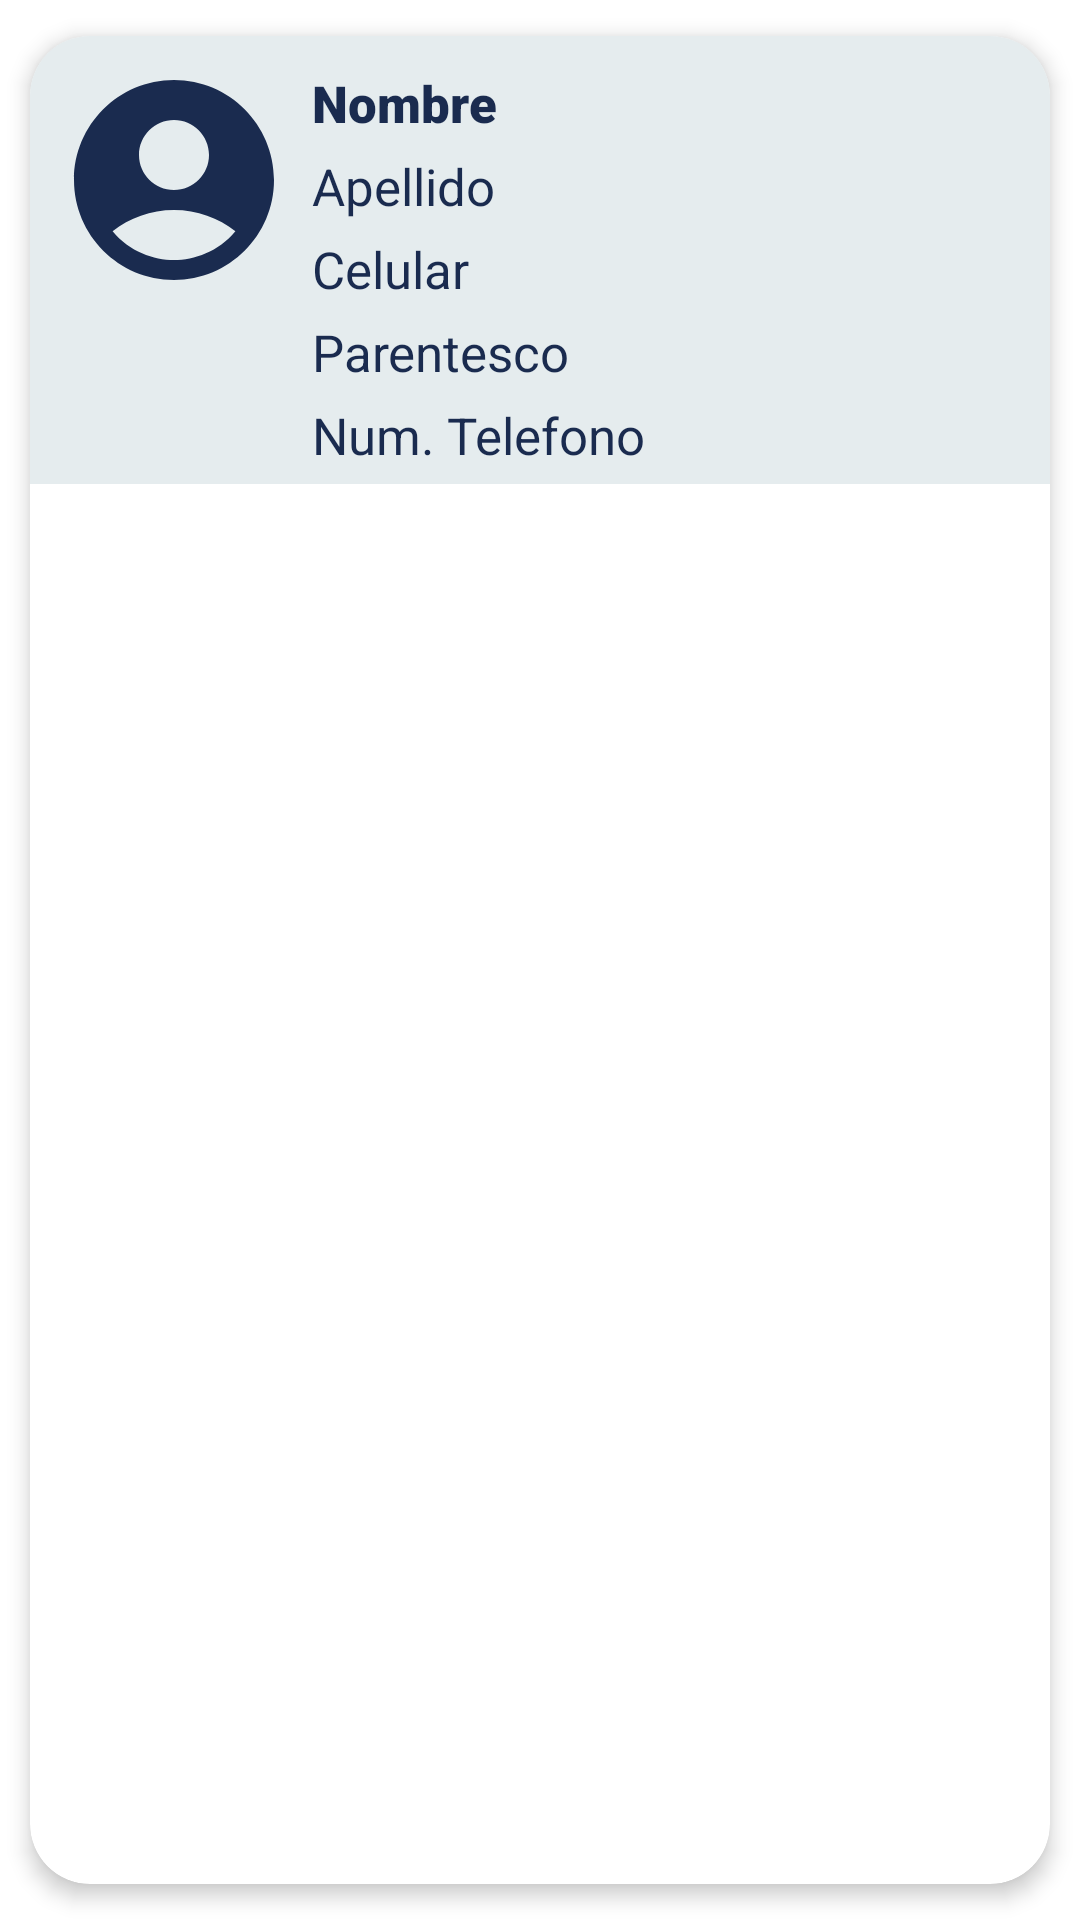

Icons on this 1080x1920 Android screen, each with the point to tap as [x,y]:
foto contacto: [174,180]
